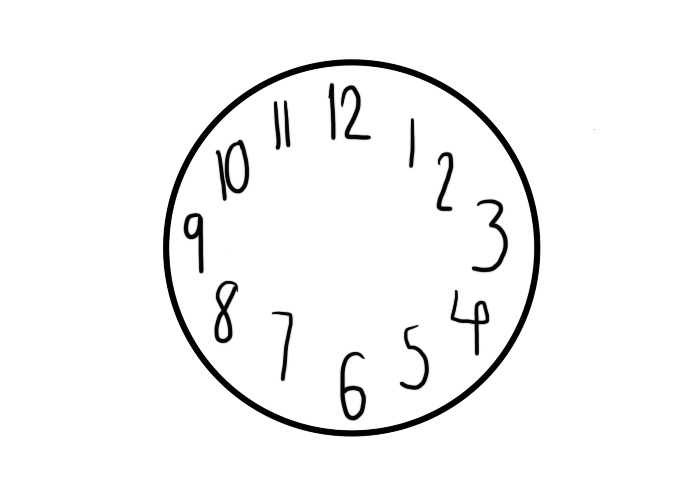eight: (213, 278, 240, 347)
eleven: (266, 99, 295, 152)
five: (401, 325, 431, 390)
four: (451, 286, 489, 354)
nine: (181, 209, 204, 274)
one: (406, 116, 418, 168)
seven: (269, 306, 294, 383)
six: (339, 346, 368, 424)
ten: (212, 139, 250, 203)
three: (470, 197, 509, 274)
twelve: (325, 82, 371, 140)
two: (435, 149, 455, 212)
